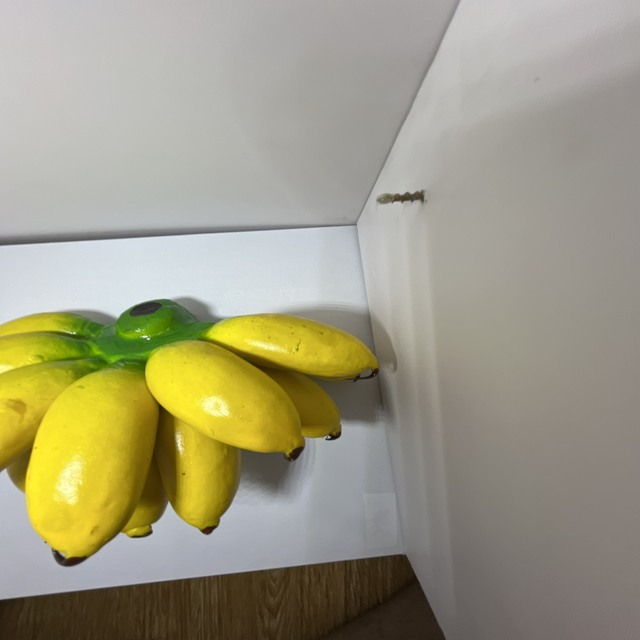Chuoi: (0, 291, 388, 572)
